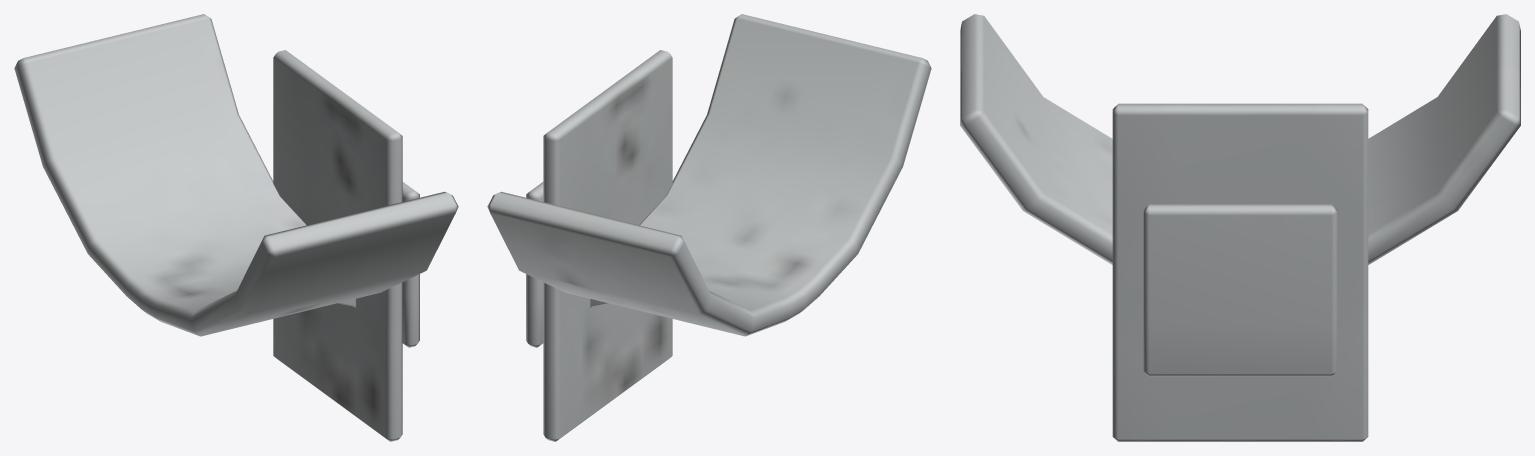
The model's file is 11_Holder1.glb.
3 views of the same model, side by side, from view 1: azimuth 30°, elevation 25°; view 2: azimuth 150°, elevation 25°; view 3: azimuth 270°, elevation 25° (orthographic). The views are drawn at different scales.
Visible parts, largest first — view 1: Holder1; view 2: Holder1; view 3: Holder1.
Part boxes in pixels (left/top/right/bottom): Holder1: left=14, top=14, right=458, bottom=441; Holder1: left=487, top=14, right=931, bottom=441; Holder1: left=960, top=14, right=1520, bottom=441.
Size of the model in its own units: 0.0513 by 0.0635 by 0.0967.
Materials: 1 (1 with a texture image).
